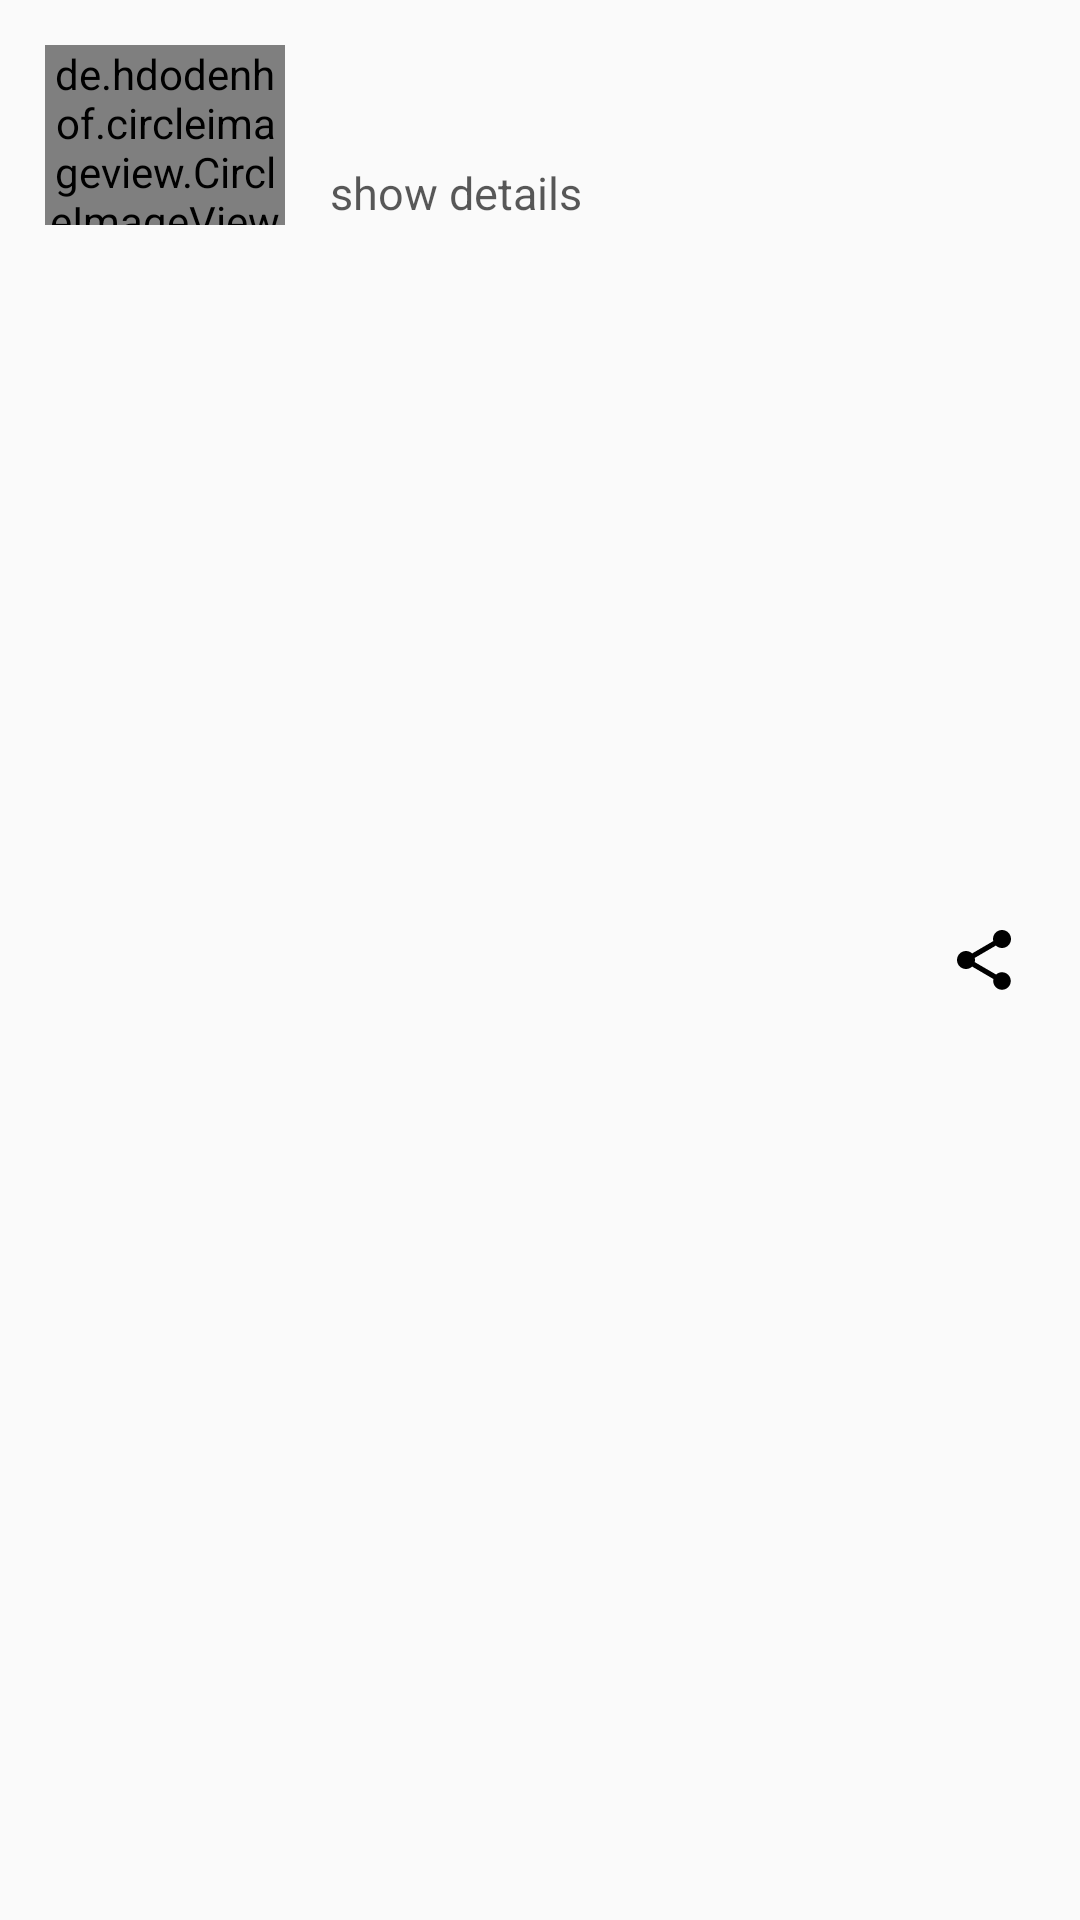

Icons on this 1080px x 1920px Android screen, each with its box as {"x1": x1, "y1": y1, "x2": x2, "y2": y2}:
share: {"x1": 957, "y1": 930, "x2": 1011, "y2": 990}
